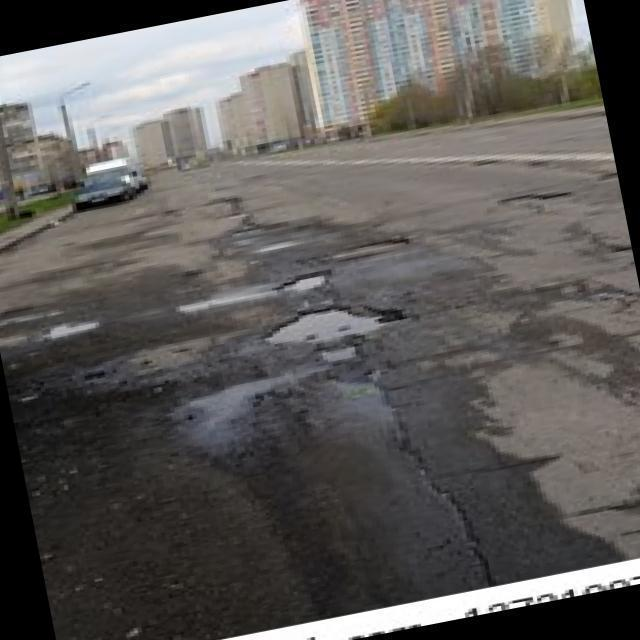pothole: (262, 293, 402, 354), (315, 234, 410, 264), (506, 186, 569, 212), (279, 270, 330, 297)
